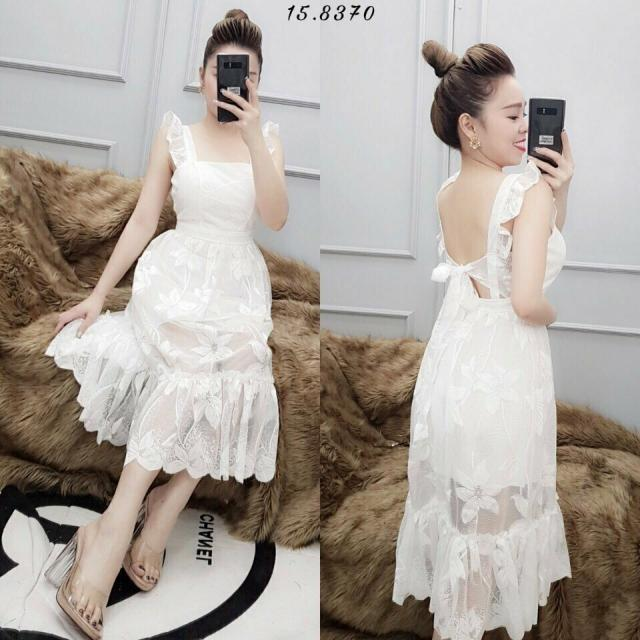clothes: (391, 167, 574, 640), (79, 105, 281, 485)
